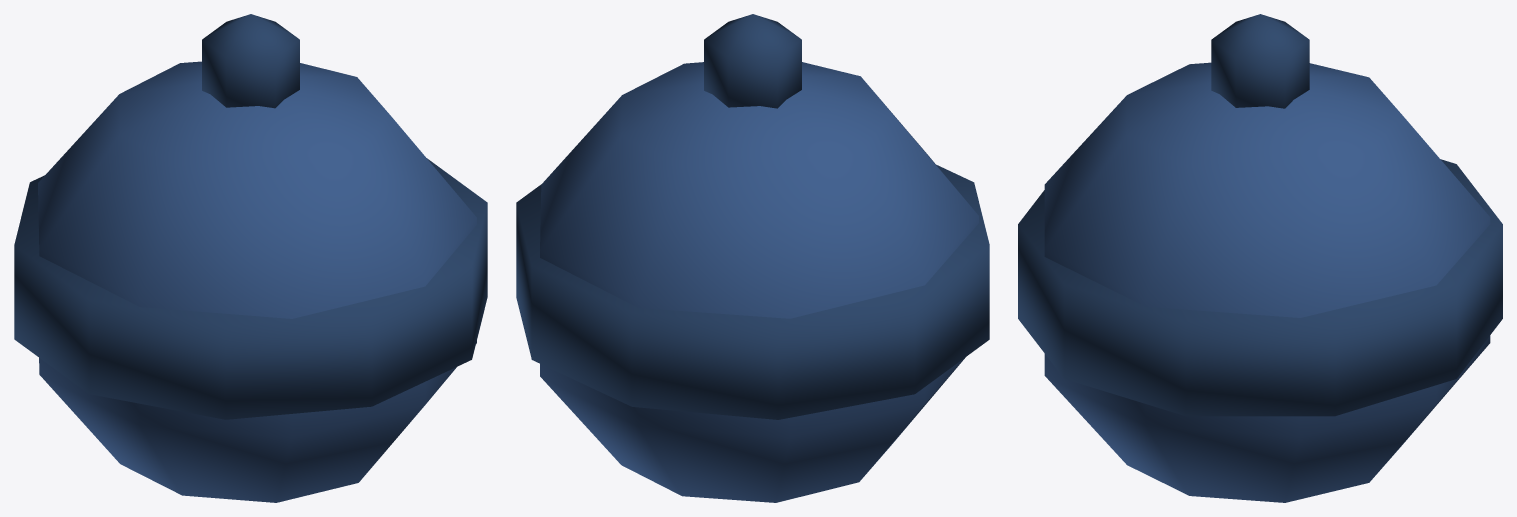
The model's file is npc_beanie_blue.glb.
3 renders of one model, left to right at view 1: azimuth 30°, elevation 25°; view 2: azimuth 150°, elevation 25°; view 3: azimuth 270°, elevation 25°, orthographic.
Visible parts, largest first — view 1: part.npc_beanie_blue; view 2: part.npc_beanie_blue; view 3: part.npc_beanie_blue.
Part boxes in pixels (left/top/right/bottom): part.npc_beanie_blue: left=14, top=14, right=487, bottom=502; part.npc_beanie_blue: left=516, top=14, right=989, bottom=502; part.npc_beanie_blue: left=1018, top=14, right=1502, bottom=502.
Bounding box in the file's own units: 0.2435 × 0.2738 × 0.256.
